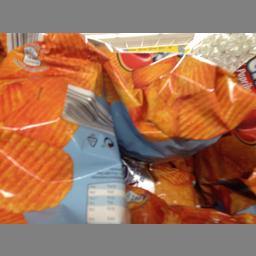chips: (0, 38, 115, 223), (105, 50, 255, 152)
